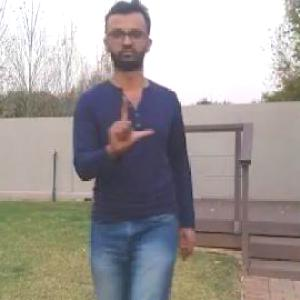land_hand: (102, 92, 157, 156)
